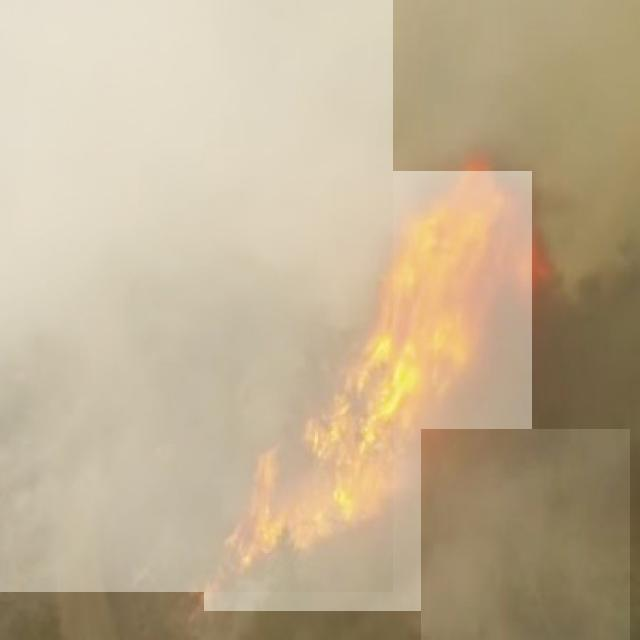Fire: (204, 171, 532, 611)
Smoke: (0, 0, 393, 592), (421, 429, 630, 640)
